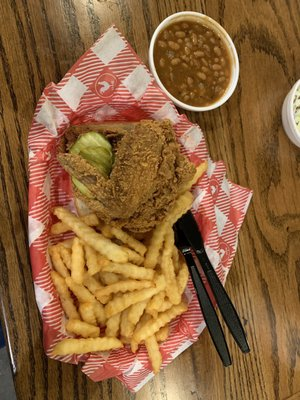burger: (173, 207, 249, 367)
sushi: (149, 12, 241, 113), (281, 77, 300, 150)
